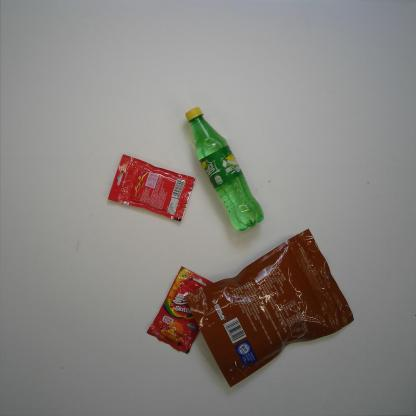Candy: (146, 264, 217, 355), (107, 153, 197, 224)
Dried Food: (184, 228, 355, 390)
Drink: (184, 105, 265, 233)
